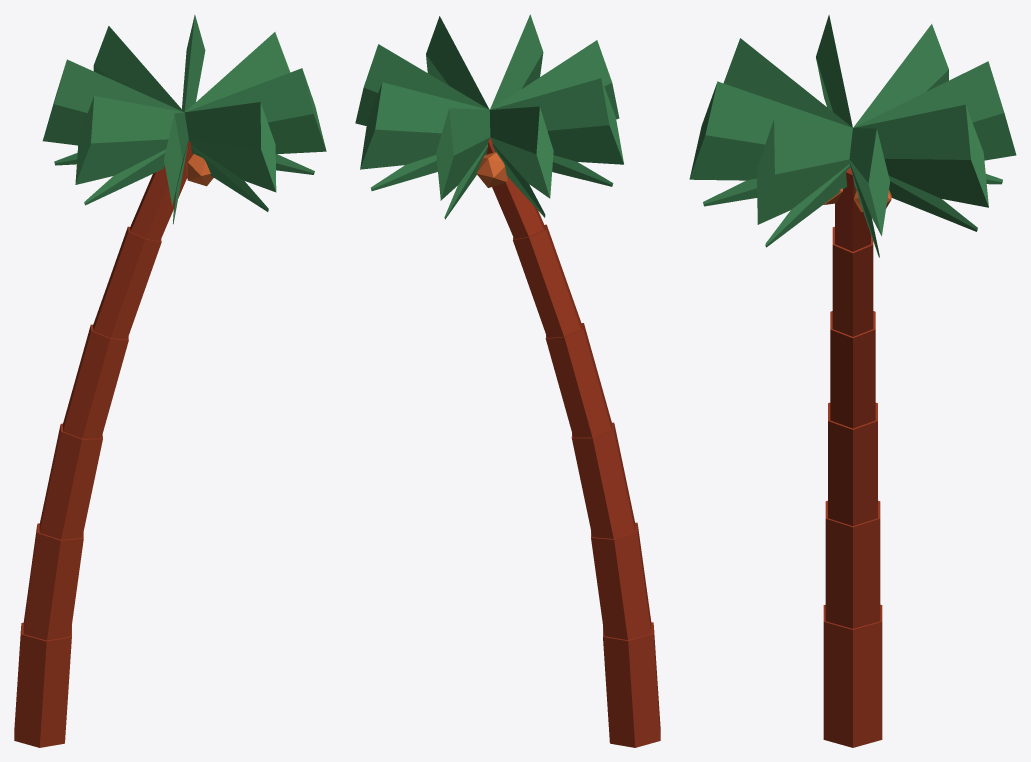
The model's file is palm.glb.
The picture shows the model from 3 angles, left to right: view 1: azimuth 30°, elevation 25°; view 2: azimuth 150°, elevation 25°; view 3: azimuth 270°, elevation 25°; orthographic projection. The views are drawn at different scales.
Parts seen in each view (by area): view 1: Fr0, T0, Fr2, T1, Fr3, T2, Fr7, T3, T4, Fr4, Fr6, T5 (+3 smaller); view 2: Fr5, T0, Fr0, T1, T2, T3, T4, Fr7, Fr4, Fr1, Fr6, Fr3 (+3 smaller); view 3: Fr5, T0, Fr2, Fr3, T1, Fr6, T2, Fr1, Fr7, T3, T4, Fr4 (+2 smaller).
Boxes of the visible parts, box(x1,y1,x2,y2) form: Fr0: box(75, 96, 183, 184); T0: box(14, 622, 71, 747); Fr2: box(184, 102, 276, 192); T1: box(23, 523, 83, 640); Fr3: box(54, 68, 326, 165); T2: box(39, 423, 102, 539); Fr7: box(42, 59, 314, 174); T3: box(62, 324, 128, 438); T4: box(93, 226, 161, 339); Fr4: box(84, 32, 290, 205); Fr6: box(93, 26, 268, 211); T5: box(130, 141, 192, 241); Fr5: box(360, 82, 488, 169); T0: box(603, 622, 660, 747); Fr0: box(490, 78, 623, 164); T1: box(591, 522, 651, 640); T2: box(571, 422, 635, 538); T3: box(545, 323, 611, 437); T4: box(513, 224, 581, 337); Fr7: box(489, 106, 553, 198); Fr4: box(355, 44, 613, 186); Fr1: box(371, 40, 619, 190); Fr6: box(436, 108, 490, 200); Fr3: box(426, 16, 545, 217); Fr5: box(854, 104, 988, 207); T0: box(823, 604, 882, 747); Fr2: box(689, 81, 1002, 184); Fr3: box(757, 119, 852, 224); T1: box(825, 500, 880, 628); Fr6: box(703, 61, 1016, 206); T2: box(828, 402, 877, 525); Fr1: box(723, 38, 977, 231); Fr7: box(765, 24, 948, 247); T3: box(830, 311, 875, 428); T4: box(832, 226, 873, 336); Fr4: box(849, 128, 889, 236).
Size of the model in its own units: 3 by 6.27 by 2.5.
